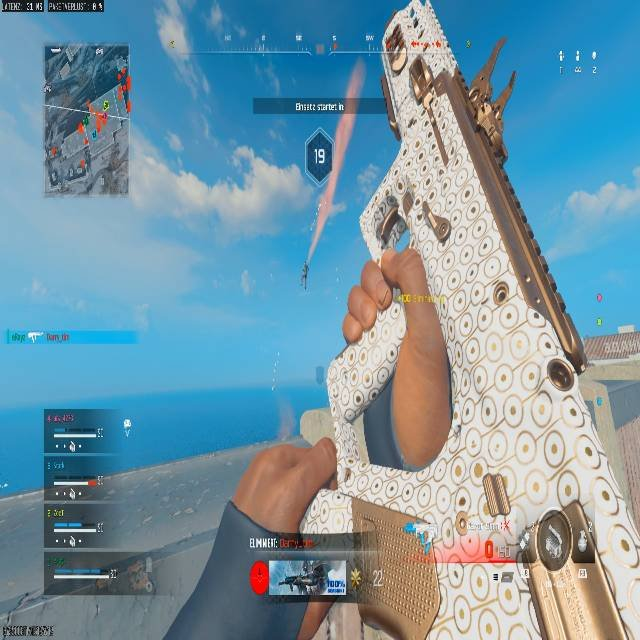player: (147, 92, 638, 640)
